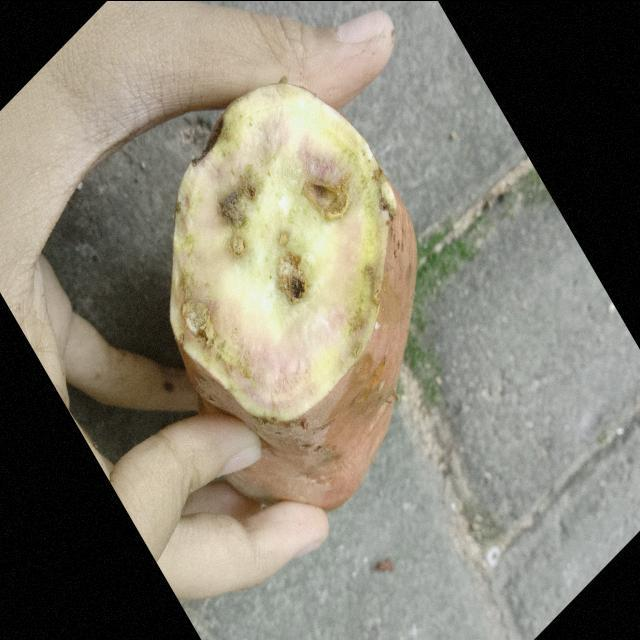Sick Sweet Potato_Tuber Rot: (170, 83, 395, 420)
